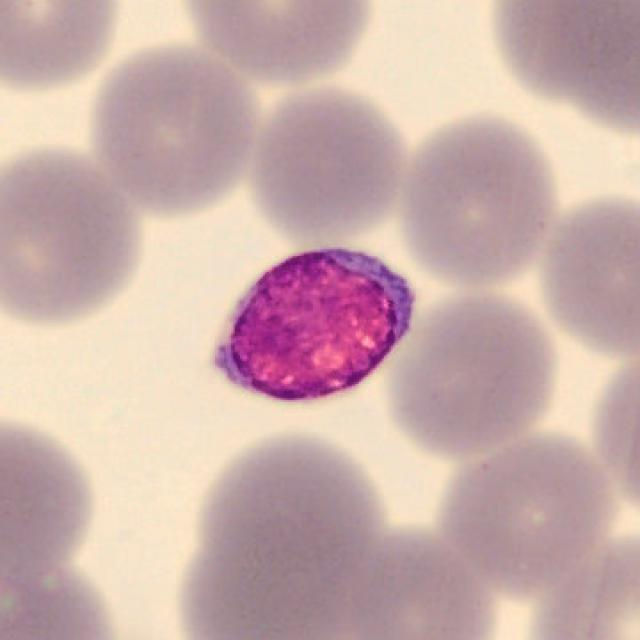Linfocito: (215, 251, 414, 404)
